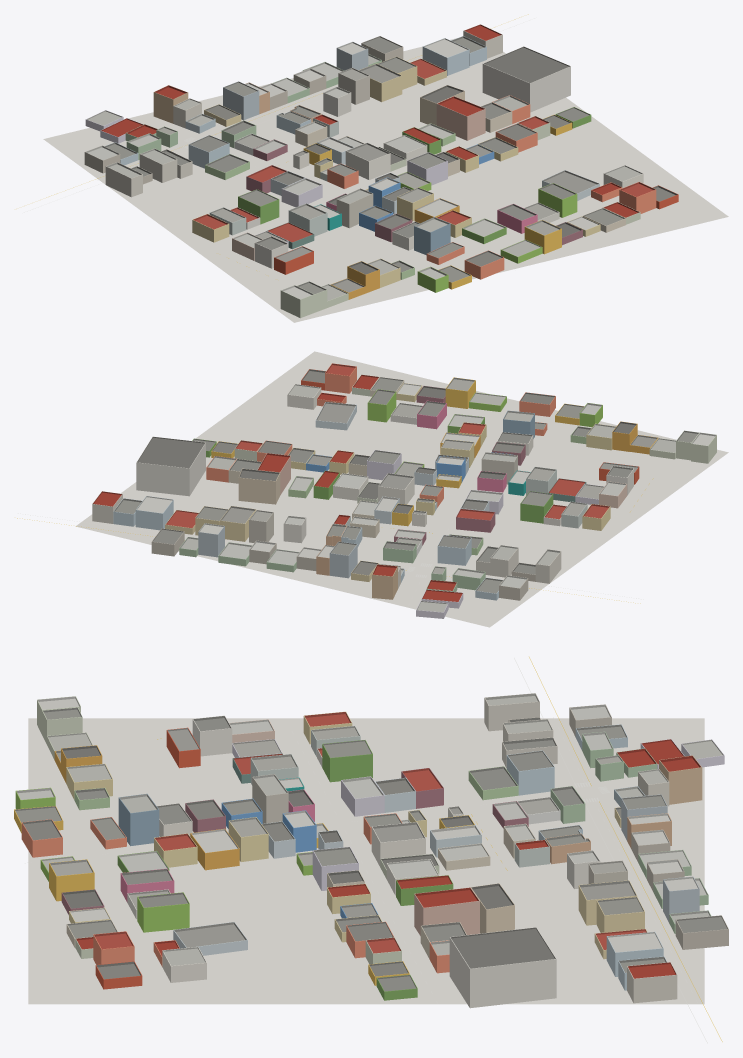
3 views of the same model, one above another, from view 1: azimuth 30°, elevation 25°; view 2: azimuth 150°, elevation 25°; view 3: azimuth 270°, elevation 25° (orthographic). The views are drawn at different scales.
Parts seen in each view (by area): view 1: ground, walls, roofs; view 2: ground, walls, roofs; view 3: ground, roofs, walls, markings.
Part boxes in pixels (x1,y1,x2,y2): ground: [43, 38, 728, 322]; walls: [84, 31, 678, 318]; roofs: [85, 24, 678, 301]; ground: [75, 351, 728, 627]; walls: [92, 367, 716, 618]; roofs: [92, 363, 716, 612]; ground: [28, 718, 704, 1004]; roofs: [14, 693, 728, 991]; walls: [14, 698, 728, 1008]; markings: [25, 657, 722, 1043].
Size of what is drawn, in the model's own units: 339 by 16.01 by 264.
